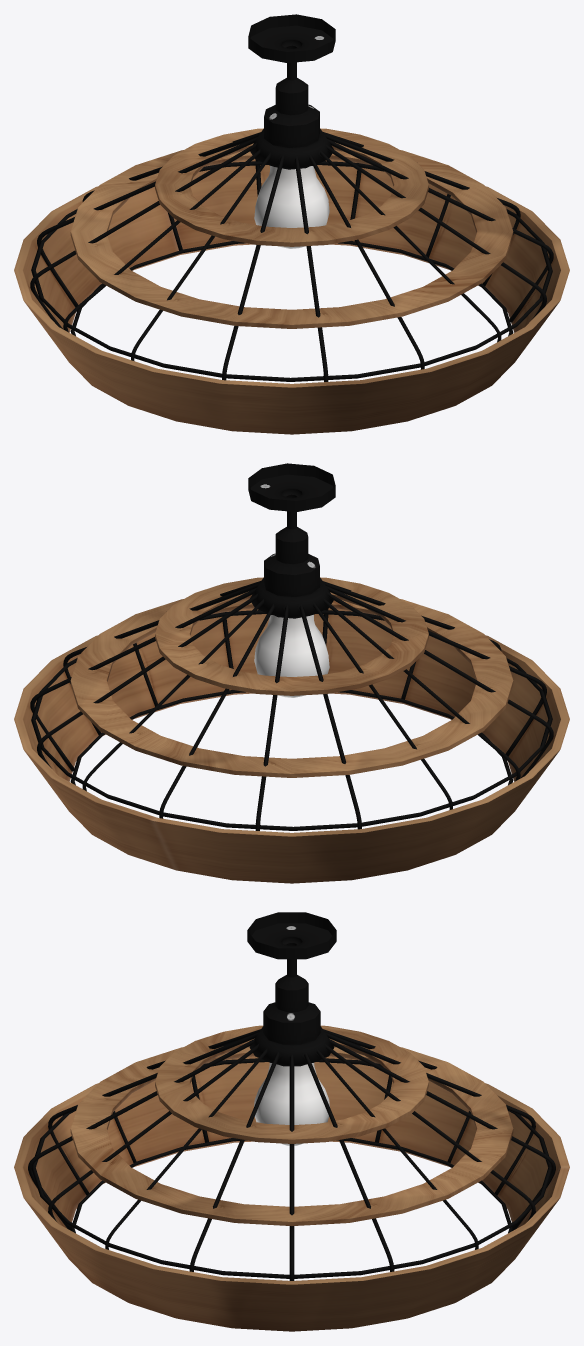
File: wood_light3.fbx
3 views of the same model, one above another, from view 1: azimuth 30°, elevation 25°; view 2: azimuth 150°, elevation 25°; view 3: azimuth 270°, elevation 25° (orthographic).
Parts seen in each view (by area): view 1: wood_light3; view 2: wood_light3; view 3: wood_light3.
Part boxes in pixels (bbox=[...]): wood_light3: bbox=[14, 14, 569, 434]; wood_light3: bbox=[14, 463, 569, 883]; wood_light3: bbox=[14, 912, 569, 1331].
Bounding box in the file's own units: 0.4954 × 0.2986 × 0.4954.
